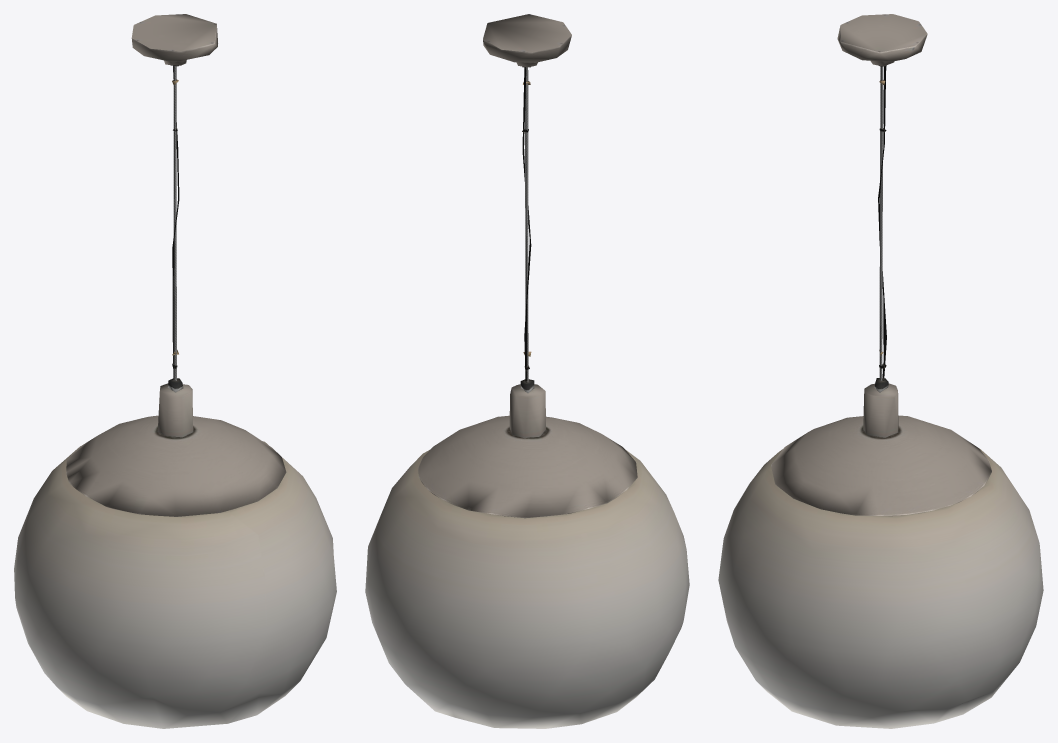
The model's file is modern_ceiling_lamp_01_1k_LOD2.fbx.
The picture shows the model from 3 angles, left to right: view 1: azimuth 30°, elevation 25°; view 2: azimuth 150°, elevation 25°; view 3: azimuth 270°, elevation 25°; orthographic projection.
Parts seen in each view (by area): view 1: modern_ceiling_lamp_01; view 2: modern_ceiling_lamp_01; view 3: modern_ceiling_lamp_01.
Boxes of the visible parts, x1,y1,x2,y2 form: modern_ceiling_lamp_01: (14,14,336,728); modern_ceiling_lamp_01: (365,14,689,728); modern_ceiling_lamp_01: (718,14,1043,728).
Size of the model in its own units: 43.24 by 95.19 by 43.33.
Materials: 3 (3 with a texture image).
